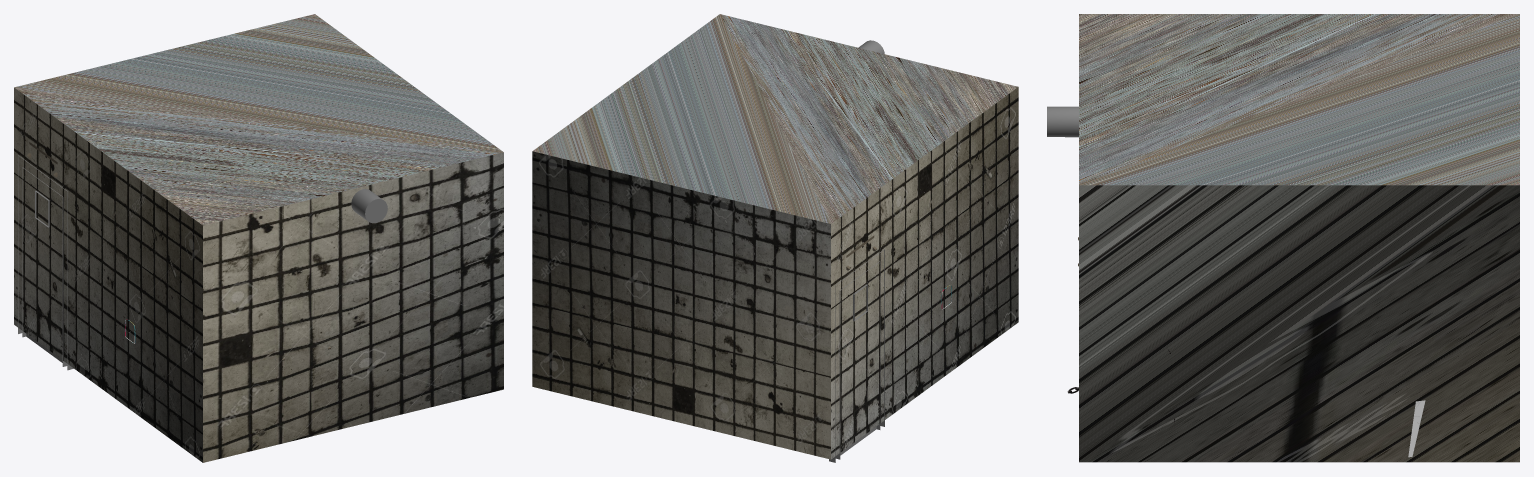
The model's file is sawroom.fbx.
3 renders of one model, left to right at view 1: azimuth 30°, elevation 25°; view 2: azimuth 150°, elevation 25°; view 3: azimuth 270°, elevation 25°, orthographic. The views are drawn at different scales.
Visible parts, largest first — view 1: pCube1, pCube42, pCylinder10; view 2: pCube1, pCube42; view 3: pCube1, pCylinder10.
Part boxes in pixels (x1=…): pCube1: x1=14, y1=14, x2=503, y2=462; pCube42: x1=18, y1=155, x2=73, y2=370; pCylinder10: x1=351, y1=189, x2=387, y2=223; pCube1: x1=532, y1=14, x2=1018, y2=459; pCube42: x1=829, y1=249, x2=884, y2=462; pCube1: x1=1079, y1=14, x2=1519, y2=462; pCylinder10: x1=1047, y1=106, x2=1078, y2=137.
Size of the model in its own units: 17.84 by 13.52 by 20.38.
